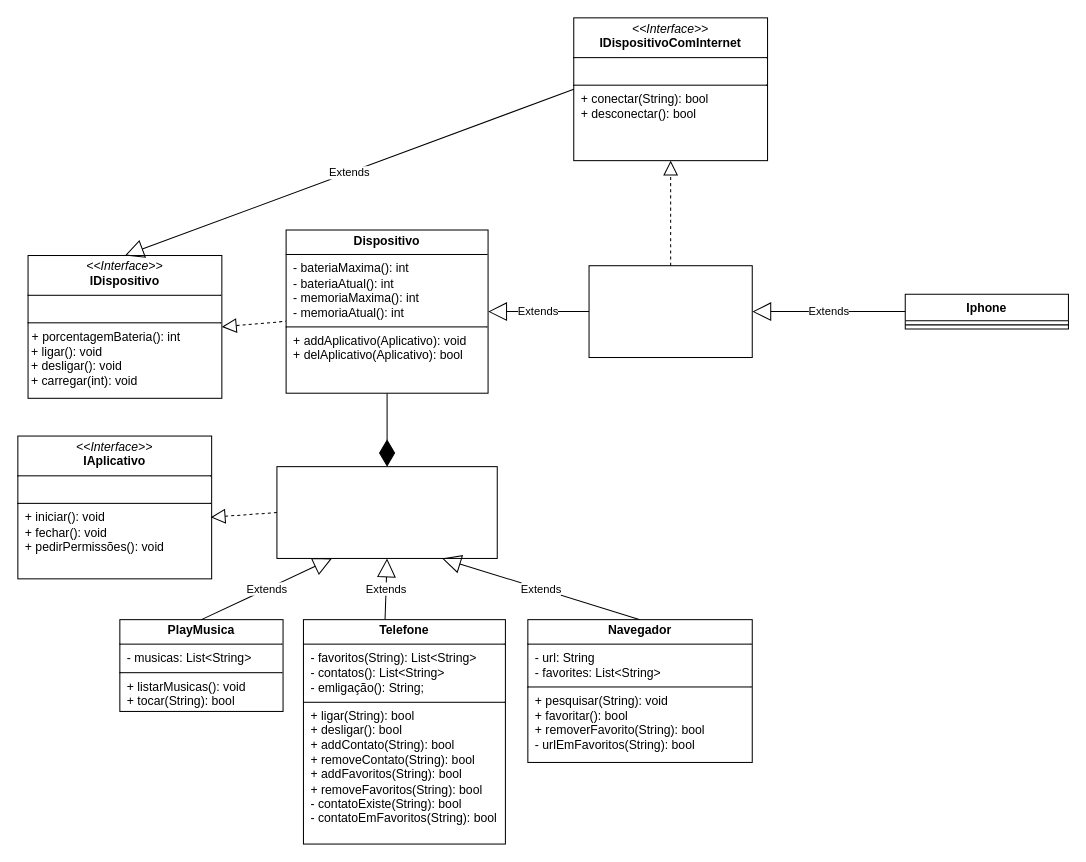
Some shapes in this 1086 by 862 pixel diagram are drawn without their labels. The centre of each missing label's shape, as x and y in pixels:
Aplicativo + memoria: int + permissões: Map<String: Boolean>: (386,512)
DispositivoComInternet + Rede: String: (670,311)
